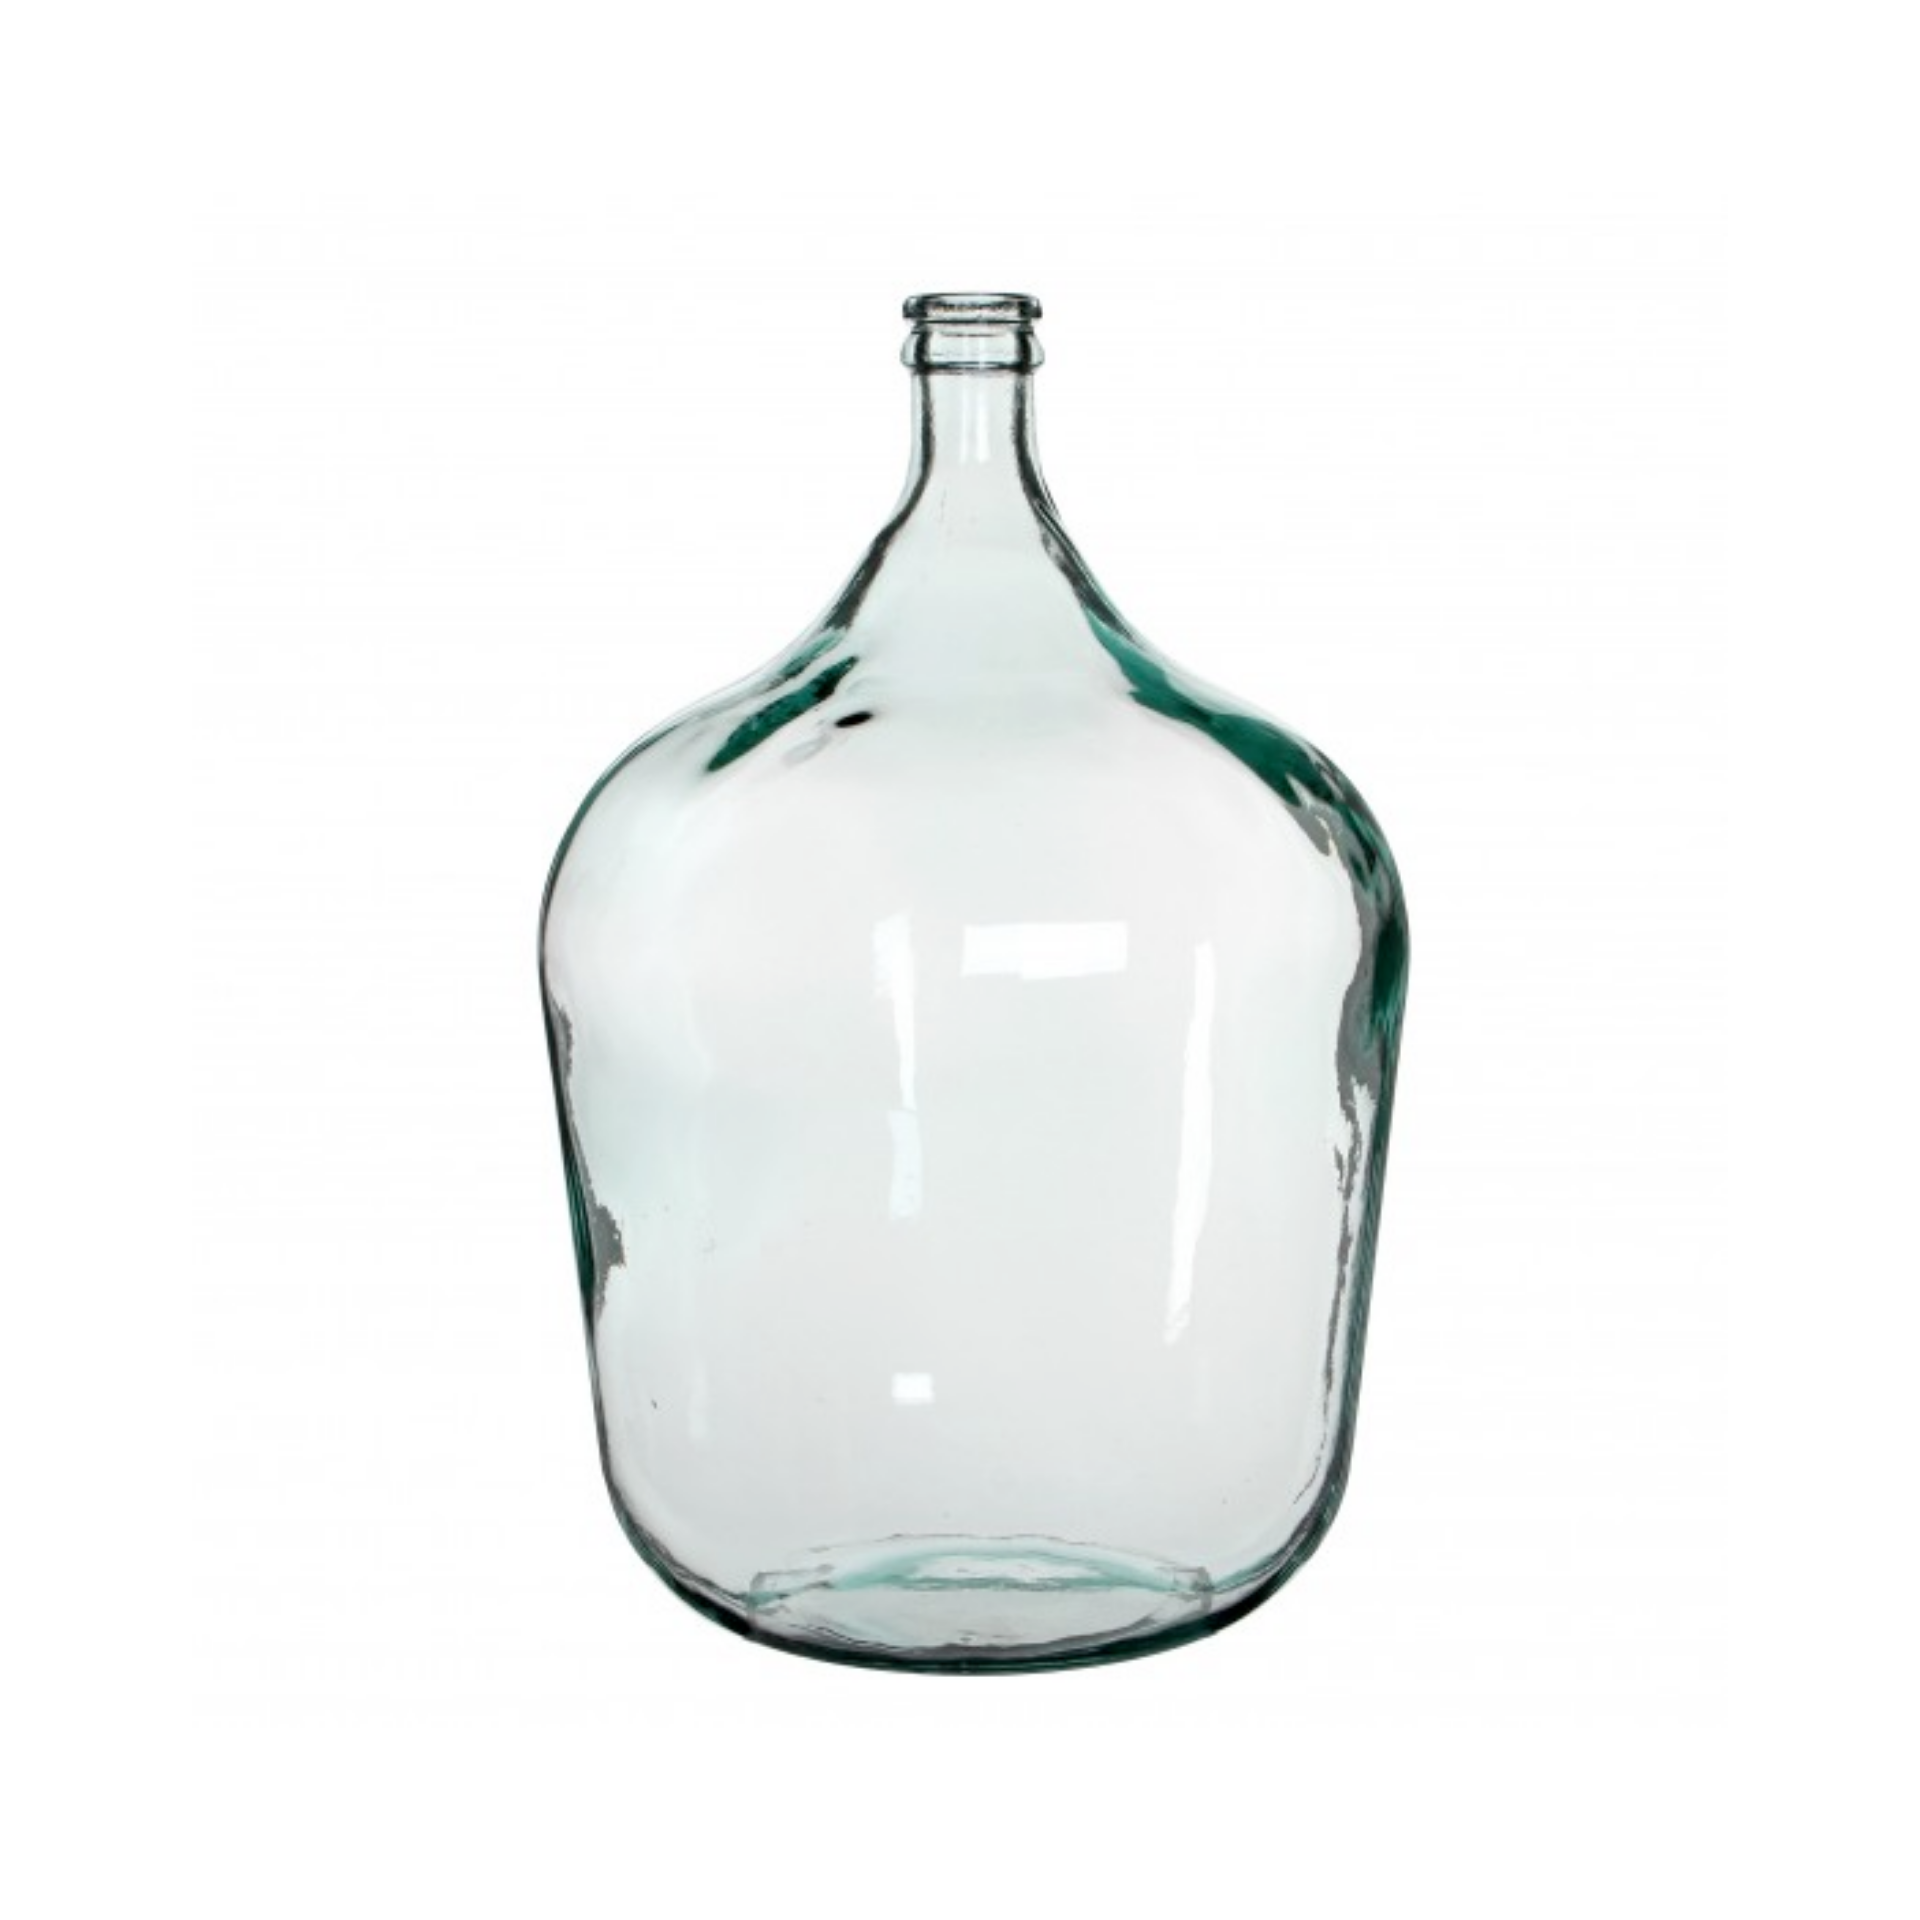glass_bottle: (471, 241, 1500, 1735)
